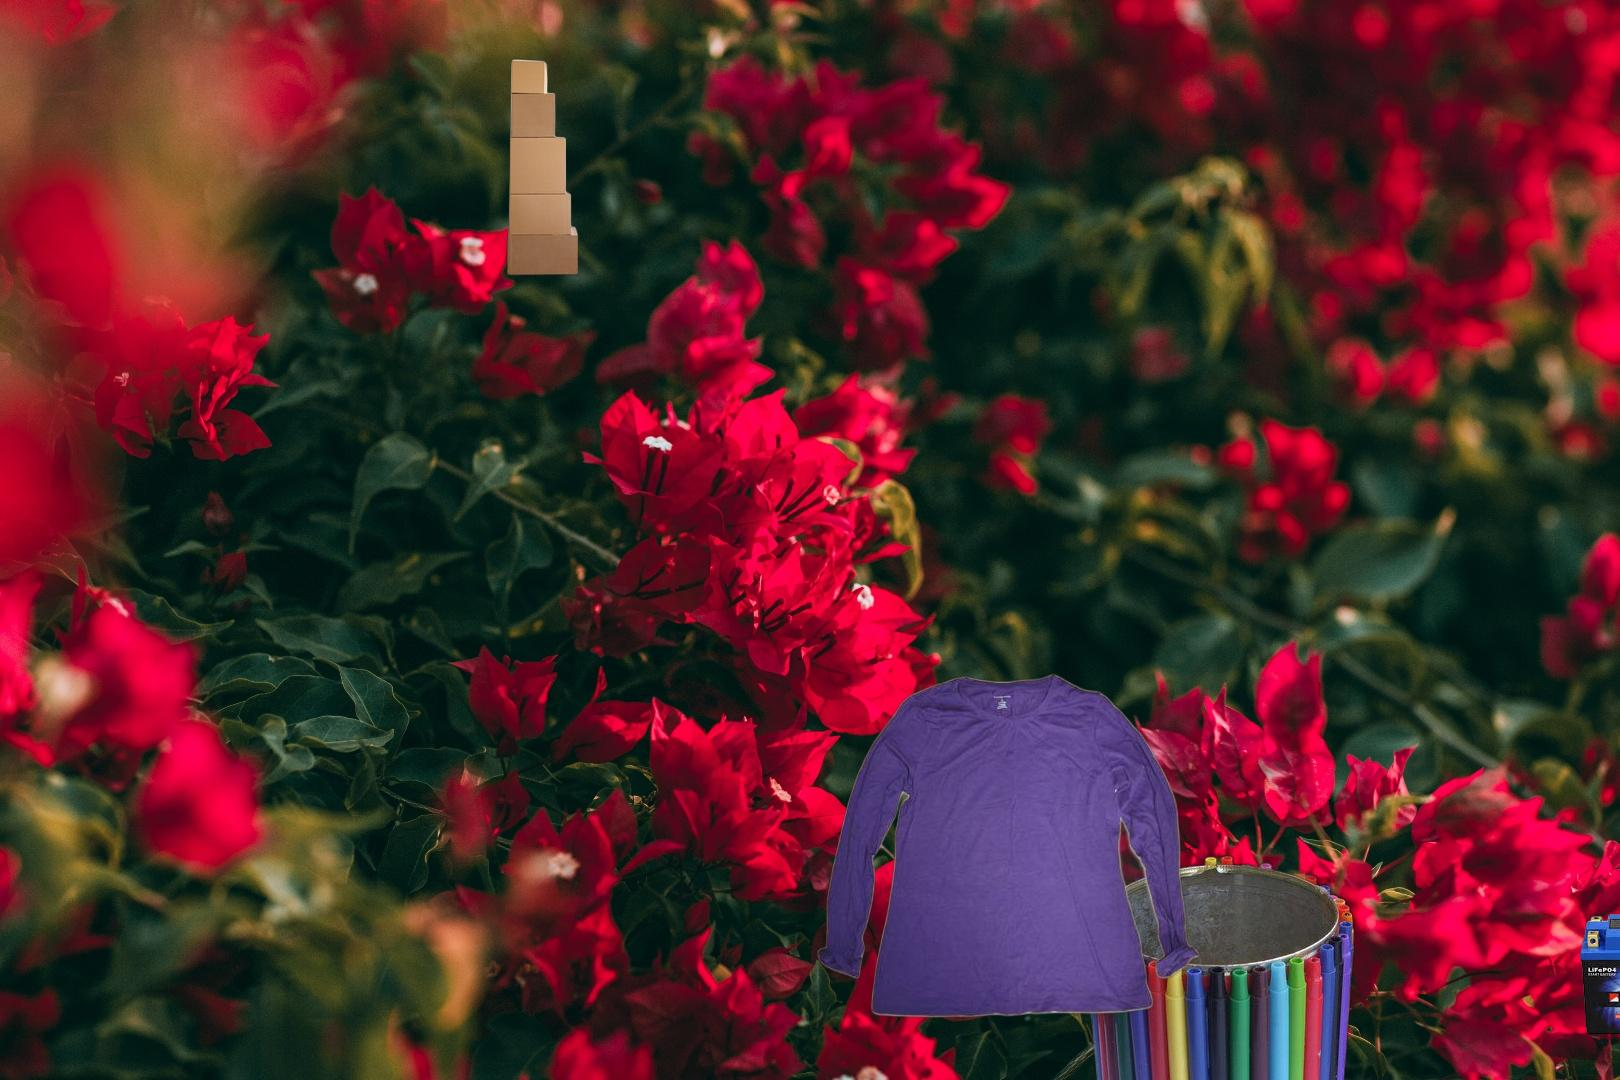battery: (1577, 911, 1620, 1037)
clothes: (814, 670, 1203, 1022)
penholder: (1081, 850, 1358, 1080)
trashbox-cardboard: (504, 55, 582, 278)
